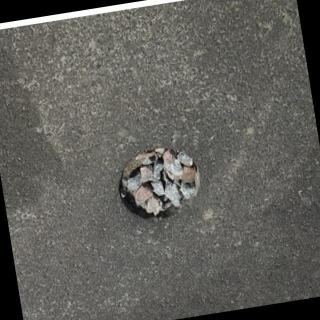pothole: (118, 148, 199, 219)
